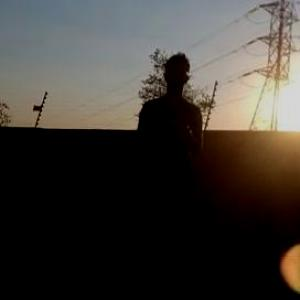follow: (104, 49, 205, 294)
